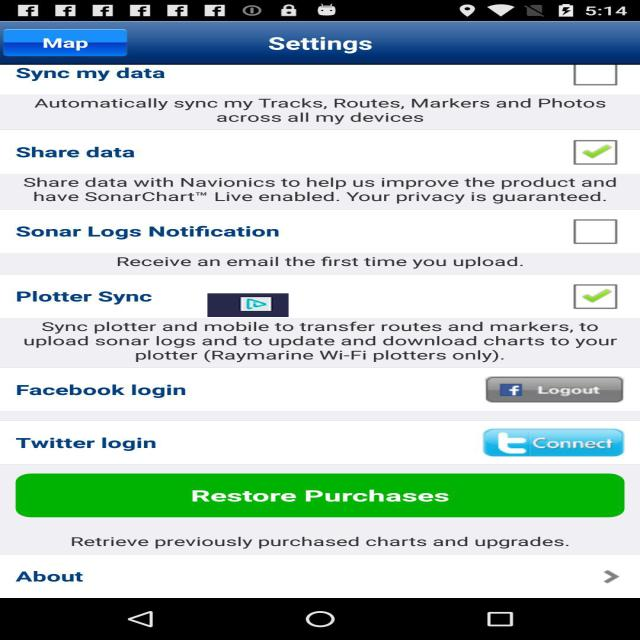sneaking: (208, 293, 288, 317)
